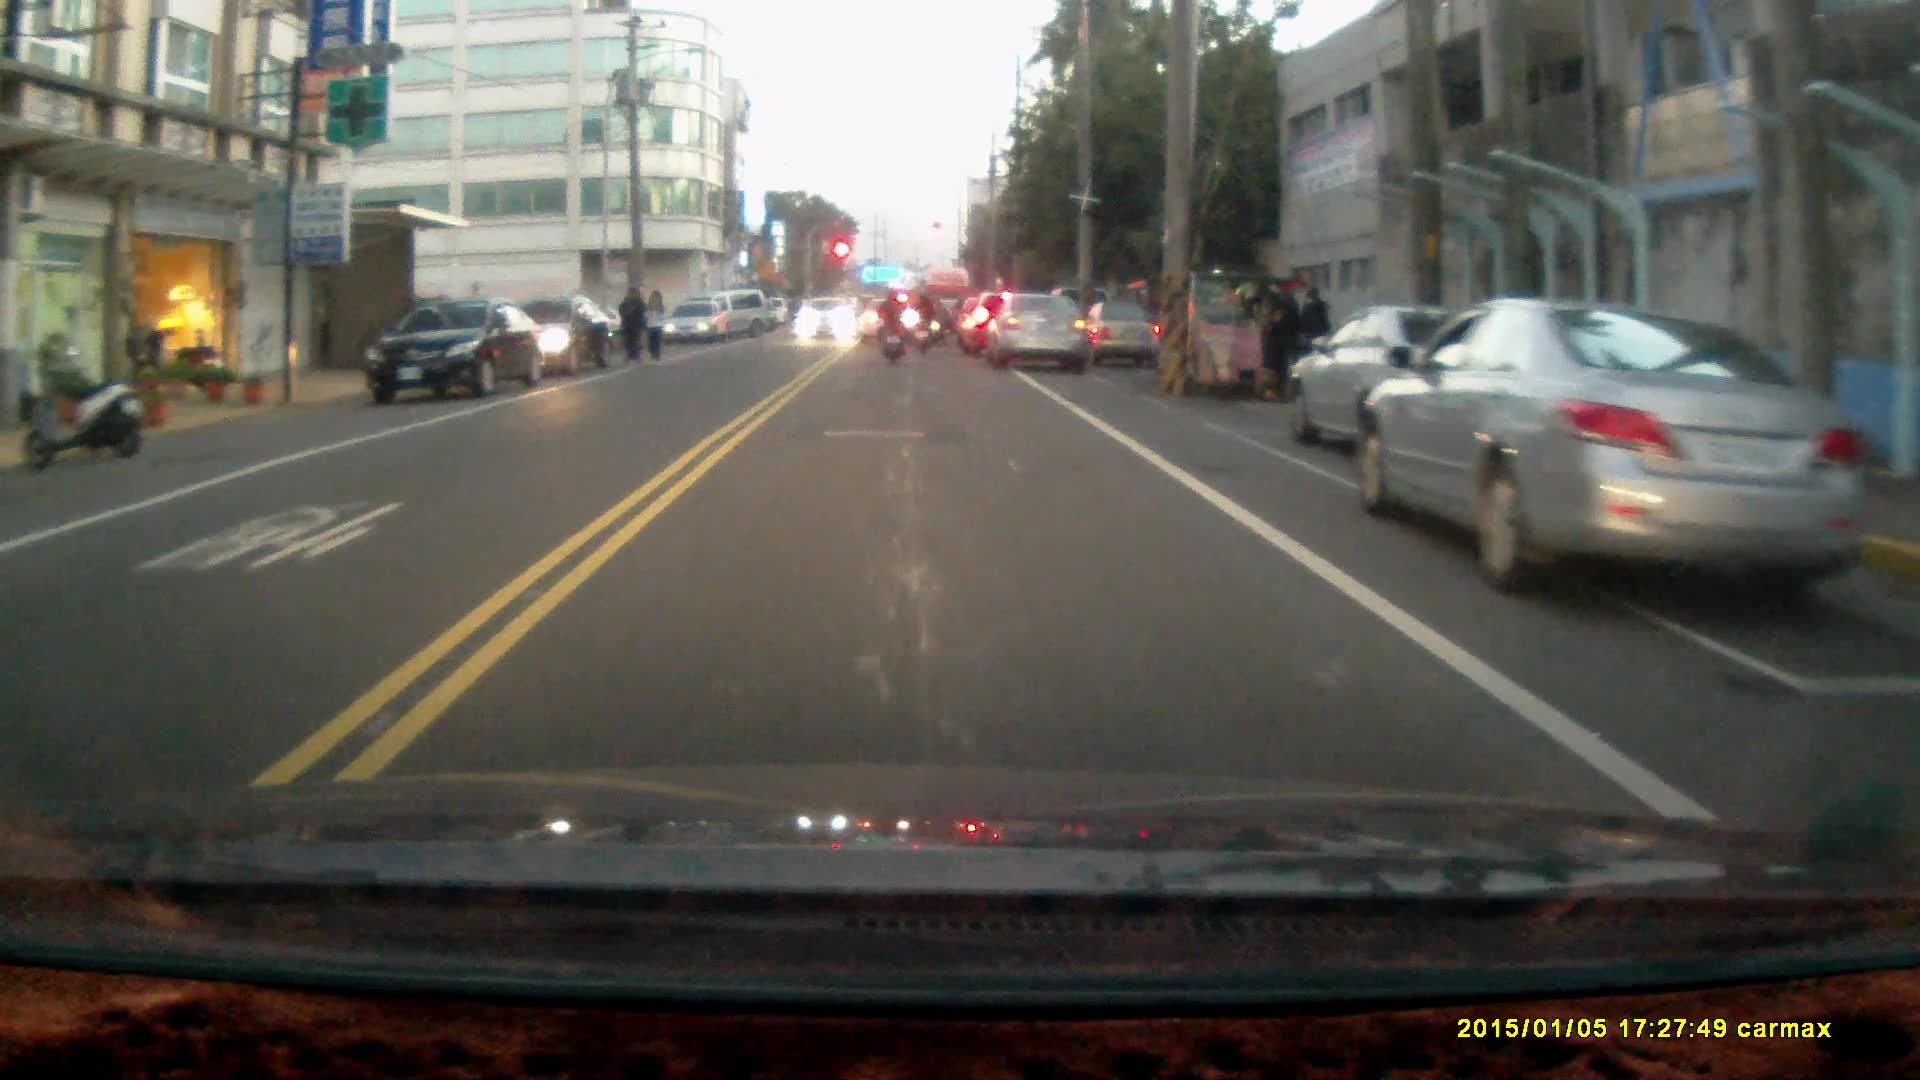pedestrian: (1295, 284, 1332, 380), (616, 282, 647, 366), (642, 286, 665, 366)
rider: (873, 286, 906, 362), (906, 290, 935, 355)
vehicle: (1352, 296, 1868, 598), (1141, 265, 1300, 395), (366, 295, 550, 403), (989, 284, 1096, 366), (665, 299, 731, 346), (796, 295, 858, 344)
